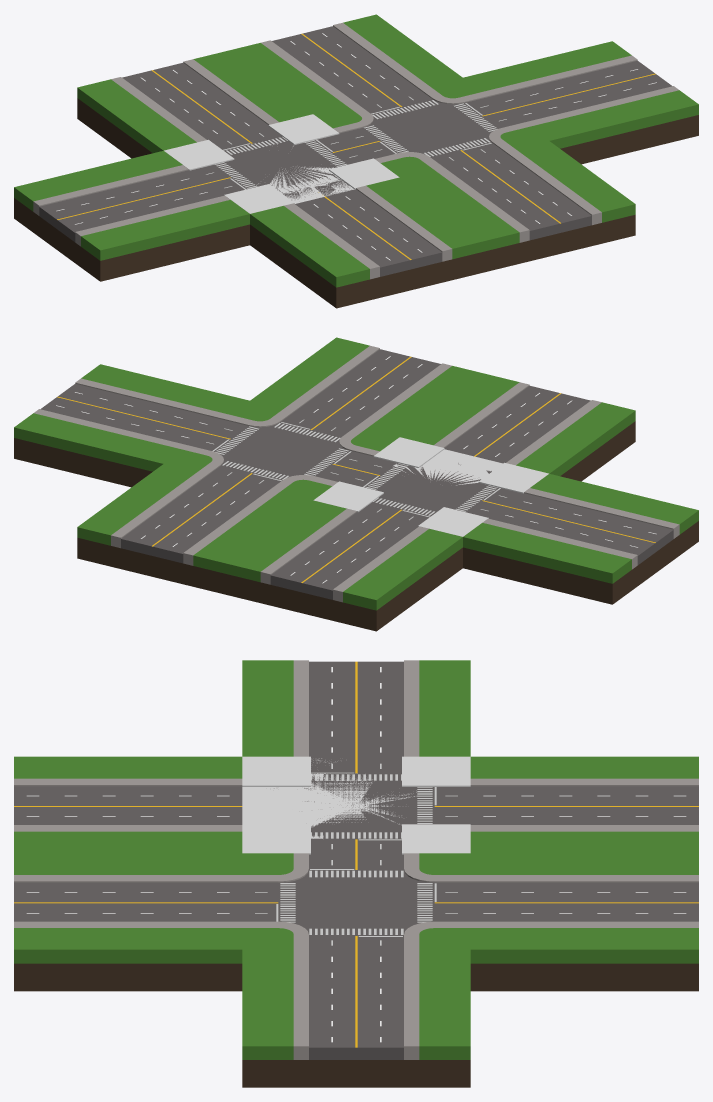
Rendered from Test.Hitbox.glb.
The picture shows the model from 3 angles, top to bottom: view 1: azimuth 30°, elevation 25°; view 2: azimuth 150°, elevation 25°; view 3: azimuth 270°, elevation 25°; orthographic projection. The views are drawn at different scales.
Visible parts, largest first — view 1: tile-mainroad-straight.002, tile-mainroad-straight.001, tile-mainroad-straight.003, tile-mainroad-straight.005, tile-mainroad-straight, tile-mainroad-straight.004, tile-mainroad-intersection.001, tile-mainroad-intersection, Cube, Cube.003, Cube.004, Cube.002 (+1 smaller); view 2: tile-mainroad-straight.002, tile-mainroad-straight, tile-mainroad-straight.004, tile-mainroad-straight.005, tile-mainroad-straight.001, tile-mainroad-straight.003, tile-mainroad-intersection.001, tile-mainroad-intersection, Cube, Cube.002, Cube.001, Cube.003 (+1 smaller); view 3: tile-mainroad-straight.004, tile-mainroad-straight.003, tile-mainroad-straight.005, tile-mainroad-straight, tile-mainroad-straight.001, tile-mainroad-intersection.001, tile-mainroad-straight.002, tile-mainroad-intersection, Cube, Cube.001, Cube.004, Cube.002 (+1 smaller).
Part boxes in pixels (box(x1,y1,x2,y2)): tile-mainroad-straight.002: box(14, 151, 249, 281); tile-mainroad-straight.001: box(250, 177, 485, 308); tile-mainroad-straight.003: box(400, 141, 635, 271); tile-mainroad-straight.005: box(463, 41, 698, 164); tile-mainroad-straight: box(77, 51, 312, 158); tile-mainroad-straight.004: box(227, 14, 462, 113); tile-mainroad-intersection.001: box(313, 77, 548, 177); tile-mainroad-intersection: box(190, 126, 371, 200); Cube: box(247, 144, 354, 203); Cube.003: box(268, 114, 339, 144); Cube.004: box(164, 139, 234, 170); Cube.002: box(329, 158, 399, 189); tile-mainroad-straight.002: box(463, 474, 698, 604); tile-mainroad-straight: box(227, 500, 462, 631); tile-mainroad-straight.004: box(77, 464, 312, 594); tile-mainroad-straight.005: box(14, 364, 249, 487); tile-mainroad-straight.001: box(400, 374, 635, 481); tile-mainroad-straight.003: box(250, 337, 485, 436); tile-mainroad-intersection.001: box(164, 400, 399, 500); tile-mainroad-intersection: box(341, 457, 522, 526); Cube: box(387, 449, 502, 490); Cube.002: box(373, 437, 444, 467); Cube.001: box(478, 462, 548, 493); Cube.003: box(313, 481, 383, 512); tile-mainroad-straight.004: box(470, 853, 698, 991); tile-mainroad-straight.003: box(14, 853, 242, 991); tile-mainroad-straight.005: box(242, 949, 470, 1087); tile-mainroad-straight: box(470, 756, 698, 853); tile-mainroad-straight.001: box(14, 756, 242, 853); tile-mainroad-intersection.001: box(242, 853, 470, 951); tile-mainroad-straight.002: box(242, 660, 470, 758); tile-mainroad-intersection: box(274, 758, 470, 854); Cube: box(242, 758, 417, 838); Cube.001: box(242, 756, 310, 786); Cube.004: box(402, 756, 470, 786); Cube.002: box(242, 824, 310, 854).
Size of the model in its own units: 120 by 6.02 by 90.
